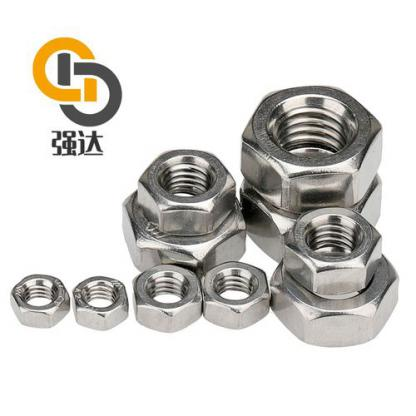FOD: (237, 83, 382, 217), (268, 243, 402, 349), (119, 183, 247, 276), (280, 204, 385, 298), (136, 148, 238, 238), (131, 264, 204, 334), (199, 261, 272, 331), (68, 271, 132, 332), (8, 272, 69, 330)
